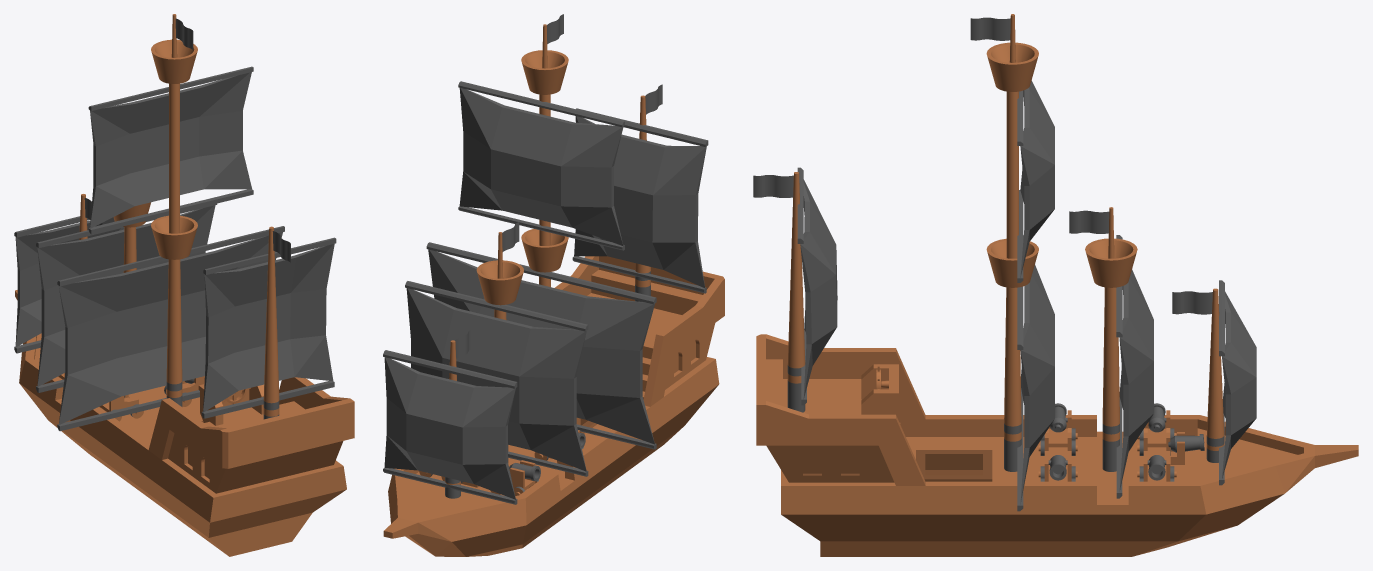
Rendered from shipBig.fbx.
3 views of the same model, side by side, from view 1: azimuth 30°, elevation 25°; view 2: azimuth 150°, elevation 25°; view 3: azimuth 270°, elevation 25° (orthographic). The views are drawn at different scales.
Parts seen in each view (by area): view 1: ship_dark_8angles, sail_middle001, sail_middle002, sail_back, sail_middle, ship_dark_8angles001, sail_front, ship_dark_8angles002; view 2: ship_dark_8angles, sail_middle002, sail_middle, sail_middle001, sail_front, sail_back, ship_dark_8angles001, ship_dark_8angles002; view 3: ship_dark_8angles, ship_dark_8angles001, sail_middle001, sail_middle, sail_back, sail_middle002, sail_front, ship_dark_8angles002.
Boxes of the visible parts, left/top/right/bottom form: ship_dark_8angles: left=15, top=194, right=354, bottom=556; sail_middle001: left=57, top=226, right=284, bottom=431; sail_middle002: left=88, top=66, right=253, bottom=234; sail_back: left=201, top=237, right=336, bottom=418; sail_middle: left=36, top=203, right=217, bottom=392; ship_dark_8angles001: left=151, top=14, right=197, bottom=406; sail_front: left=14, top=216, right=124, bottom=353; ship_dark_8angles002: left=151, top=39, right=197, bottom=83; ship_dark_8angles: left=383, top=84, right=724, bottom=556; sail_middle002: left=458, top=81, right=624, bottom=250; sail_middle: left=405, top=281, right=588, bottom=476; sail_middle001: left=426, top=242, right=656, bottom=449; sail_front: left=383, top=350, right=517, bottom=504; sail_back: left=572, top=108, right=708, bottom=293; ship_dark_8angles001: left=521, top=14, right=568, bottom=286; ship_dark_8angles002: left=521, top=50, right=568, bottom=94; ship_dark_8angles: left=753, top=172, right=1358, bottom=556; ship_dark_8angles001: left=970, top=14, right=1038, bottom=471; sail_middle001: left=1017, top=235, right=1054, bottom=511; sail_middle: left=1116, top=235, right=1153, bottom=498; sail_back: left=797, top=167, right=837, bottom=405; sail_middle002: left=1017, top=80, right=1054, bottom=282; sail_front: left=1219, top=280, right=1256, bottom=485; ship_dark_8angles002: left=986, top=42, right=1038, bottom=91.
Bounding box in the file's own units: 1841 × 3687 × 3854.
